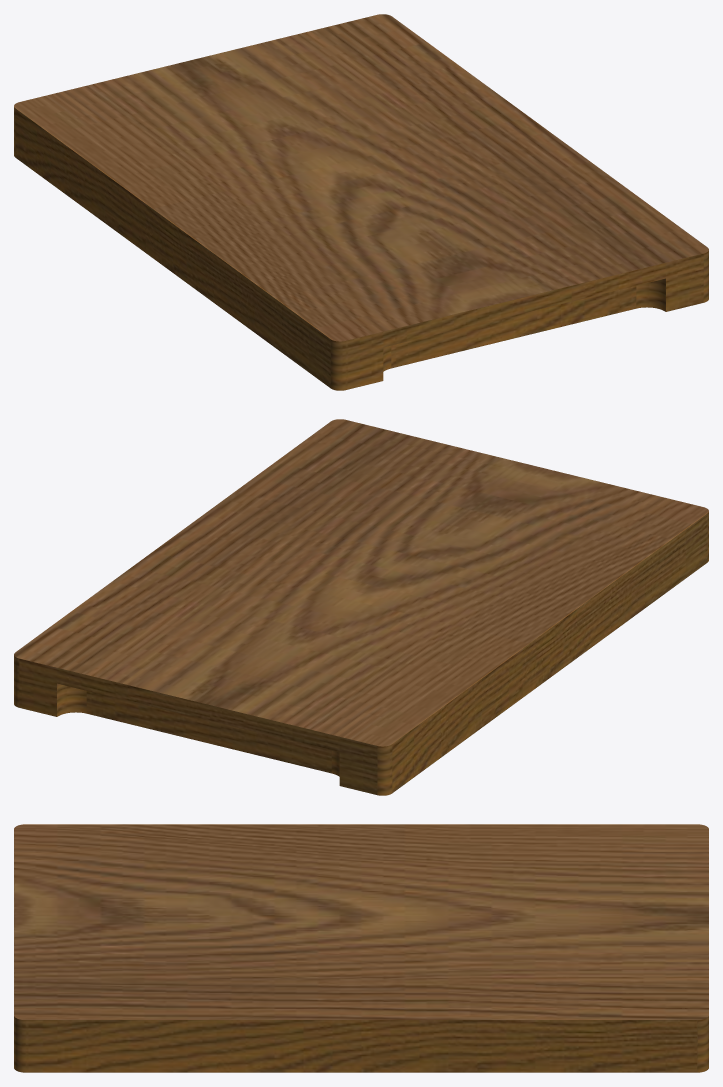
The model's file is tabla-de-picar-teca-talla-s.glb.
3 views of the same model, one above another, from view 1: azimuth 30°, elevation 25°; view 2: azimuth 150°, elevation 25°; view 3: azimuth 270°, elevation 25° (orthographic). The views are drawn at different scales.
Bounding box in the file's own units: 0.2 × 0.025 × 0.3.
Materials: 2 (2 with a texture image).
